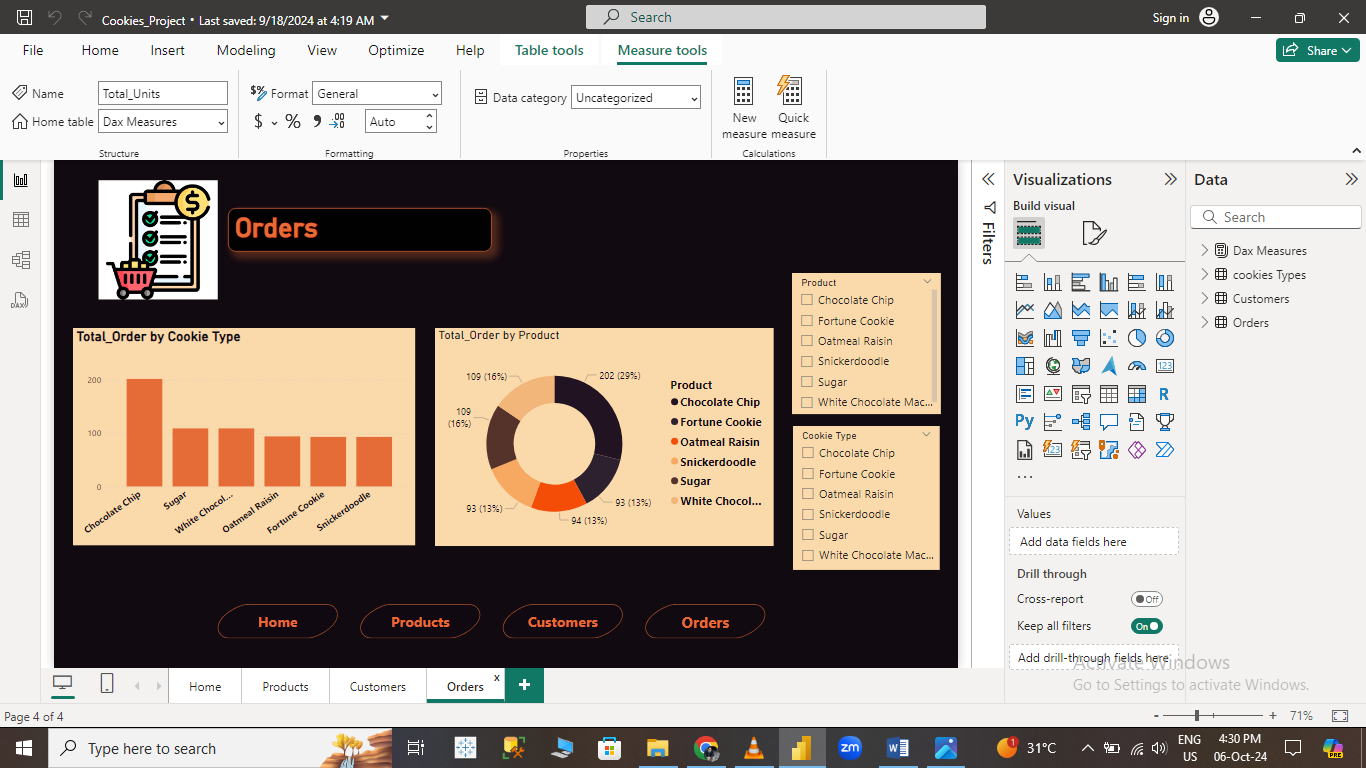

The page's visual inventory and layout, read from the dashboard file:
{"tool":"powerbi","page":{"name":"Orders","canvas":[1280,720],"ordinal":3},"visuals":[{"type":"pageNavigator","box":[221.1,629.3,799.4,49.6],"z":0},{"type":"textbox","title":"Orders","box":[246.6,68,374.2,62.4],"z":1000},{"type":"image","box":[58.1,22.7,178.6,181.4],"z":2000},{"type":"clusteredColumnChart","fields":{"Category":["cookies Types.Cookie Type"],"Y":["Dax Measures.Total_Order"]},"box":[26.9,238.1,484.7,307.6],"z":3000},{"type":"donutChart","fields":{"Y":["Dax Measures.Total_Order"],"Series":["Orders.Product"]},"box":[540,238.1,480.5,309],"z":4000},{"type":"slicer","fields":{"Values":["Orders.Product"]},"box":[1046,160.2,211.2,199.8],"z":5000},{"type":"slicer","fields":{"Values":["cookies Types.Cookie Type"]},"box":[1047.4,377,208.3,204.1],"z":6000}]}

Visuals, with their boxes on the page's 1280x720 design canvas (x1, y1, x2, y2). These are canvas units, not pixel positions in the 1366x768 screenshot, which may show the page scaled, cropped or inside an application window:
pageNavigator: [x1=221, y1=629, x2=1020, y2=679]
"Orders" textbox: [x1=247, y1=68, x2=621, y2=130]
image: [x1=58, y1=23, x2=237, y2=204]
clusteredColumnChart - cookies Types.Cookie Type x Dax Measures.Total_Order: [x1=27, y1=238, x2=512, y2=546]
donutChart - Dax Measures.Total_Order x Orders.Product: [x1=540, y1=238, x2=1020, y2=547]
slicer - Orders.Product: [x1=1046, y1=160, x2=1257, y2=360]
slicer - cookies Types.Cookie Type: [x1=1047, y1=377, x2=1256, y2=581]
